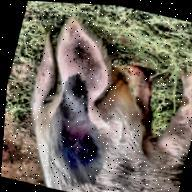boar: (10, 11, 192, 192)
